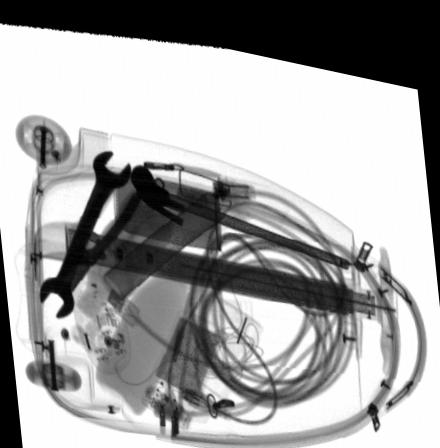Hammer: (130, 157, 349, 254)
Pliers: (59, 166, 142, 288)
Powerbank: (140, 307, 223, 422)
Wrench: (36, 145, 130, 315)
